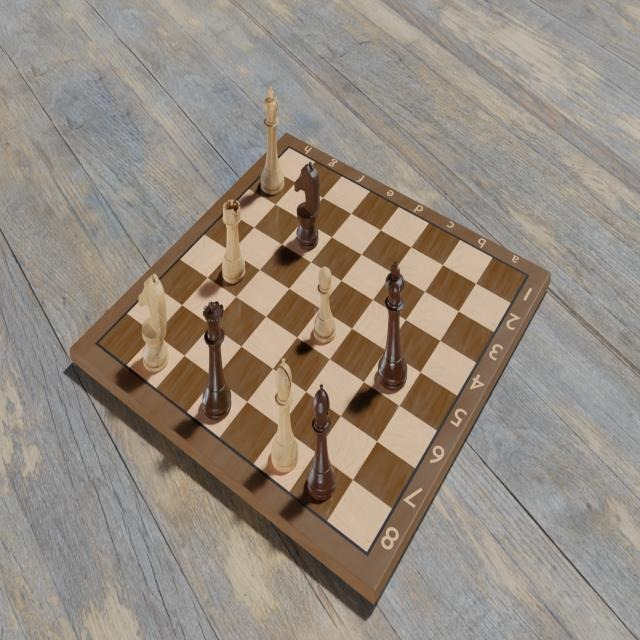black-bishop: (306, 384, 337, 504)
black-king: (376, 263, 408, 393)
black-knight: (293, 159, 323, 252)
black-queen: (200, 301, 233, 425)
white-bishop: (270, 354, 302, 477)
white-king: (259, 83, 289, 199)
white-knight: (139, 269, 171, 374)
white-pawn: (311, 265, 337, 345)
white-rook: (219, 200, 246, 284)
